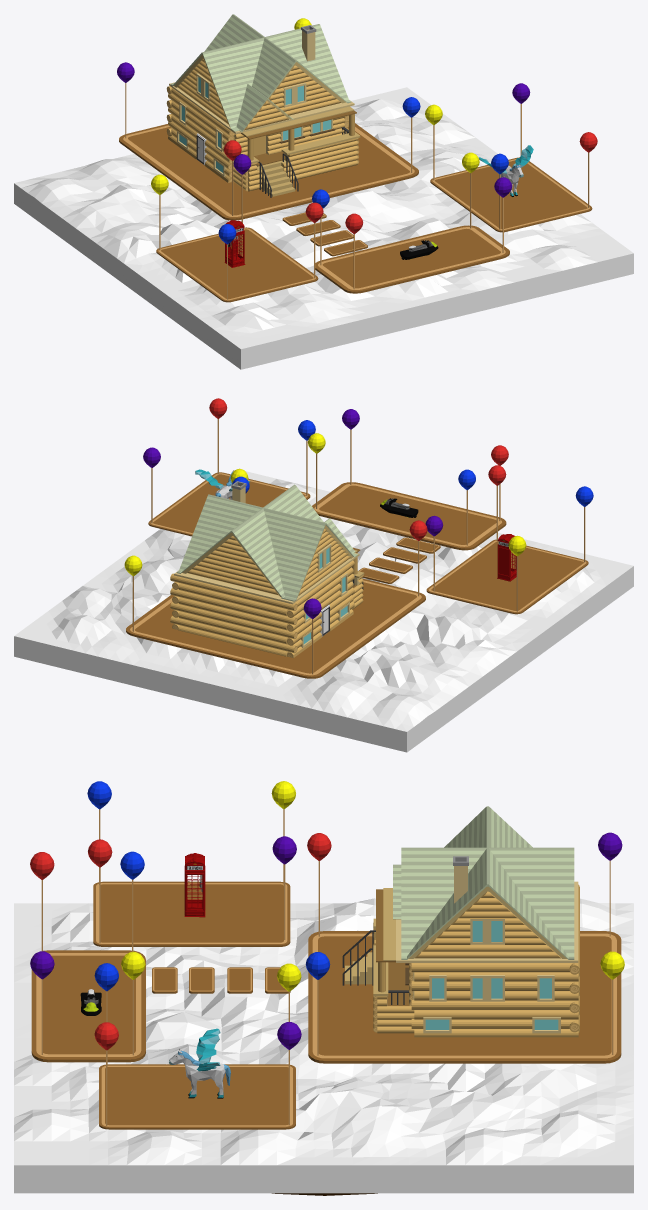
3 renders of one model, top to bottom at view 1: azimuth 30°, elevation 25°; view 2: azimuth 150°, elevation 25°; view 3: azimuth 270°, elevation 25°, orthographic. The views are drawn at different scales.
Visible parts, largest first — view 1: Cube.013, Cube.1516, OBJRANDOM_PHONEBOOTH, ANIMAL_PEGASO; view 2: Cube.013, Cube.1516, OBJRANDOM_PHONEBOOTH; view 3: Cube.013, Cube.1516, ANIMAL_PEGASO, OBJRANDOM_PHONEBOOTH.
Boxes of the visible parts, x1=… form: Cube.013: x1=14, y1=18, x2=633, y2=369; Cube.1516: x1=166, y1=14, x2=360, y2=197; OBJRANDOM_PHONEBOOTH: x1=224, y1=220, x2=245, y2=267; ANIMAL_PEGASO: x1=479, y1=145, x2=533, y2=196; Cube.013: x1=14, y1=398, x2=633, y2=752; Cube.1516: x1=170, y1=481, x2=364, y2=657; OBJRANDOM_PHONEBOOTH: x1=497, y1=534, x2=516, y2=581; Cube.013: x1=14, y1=781, x2=633, y2=1193; Cube.1516: x1=342, y1=806, x2=579, y2=1037; ANIMAL_PEGASO: x1=169, y1=1028, x2=230, y2=1098; OBJRANDOM_PHONEBOOTH: x1=184, y1=853, x2=205, y2=917.
Bounding box in the file's own units: 4000 × 1754 × 4000.
Materials: 43 (2 with a texture image).
